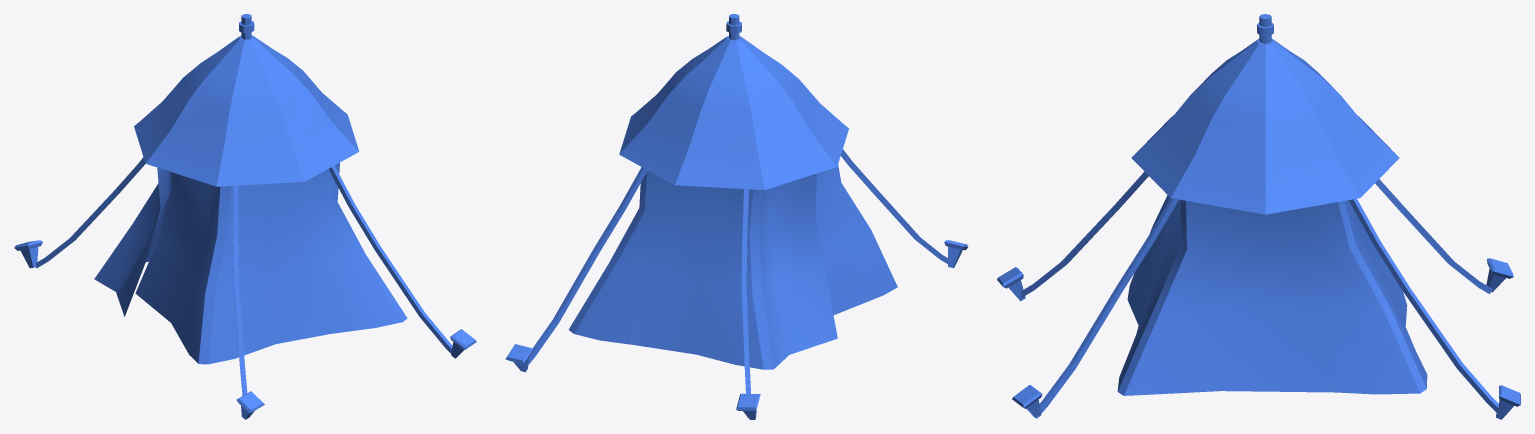
The model's file is Military_Tent_Variant1.fbx.
The picture shows the model from 3 angles, left to right: view 1: azimuth 30°, elevation 25°; view 2: azimuth 150°, elevation 25°; view 3: azimuth 270°, elevation 25°; orthographic projection. The views are drawn at different scales.
Visible parts, largest first — view 1: Military_Tent_Variant1; view 2: Military_Tent_Variant1; view 3: Military_Tent_Variant1.
Boxes of the visible parts, x1,y1,x2,y2 form: Military_Tent_Variant1: [14, 14, 476, 419]; Military_Tent_Variant1: [505, 14, 968, 419]; Military_Tent_Variant1: [997, 14, 1520, 419].
Bounding box in the file's own units: 336 × 380 × 525.
